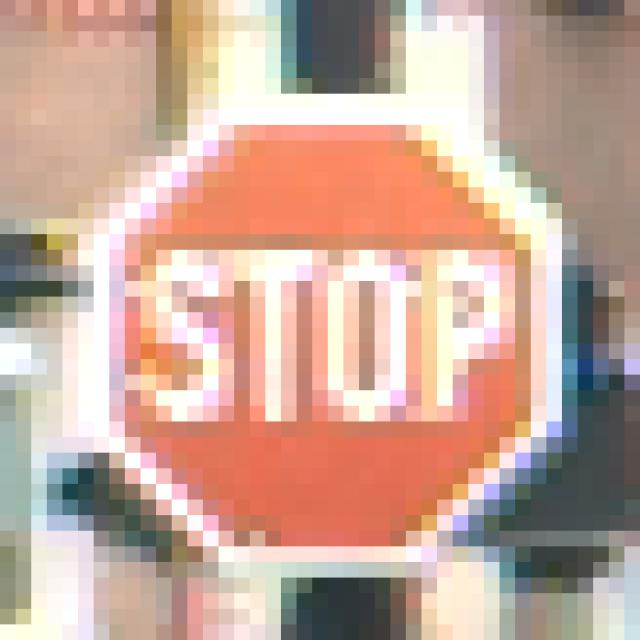STOP: (79, 79, 563, 563)
